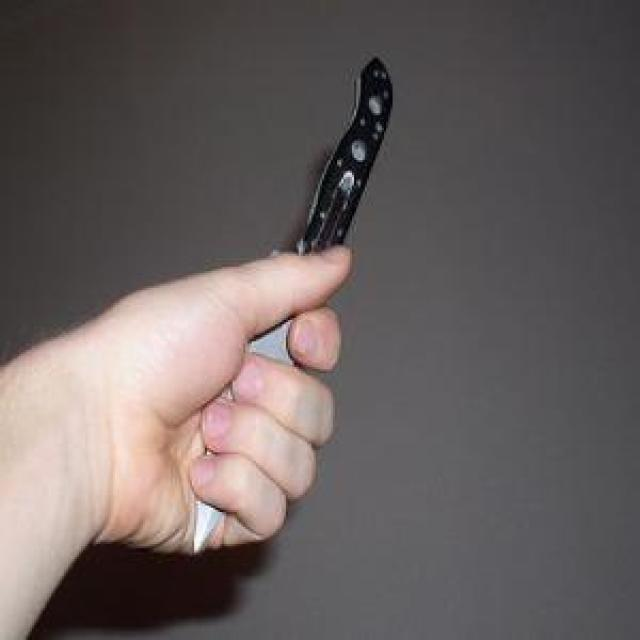knife: (171, 45, 398, 564)
